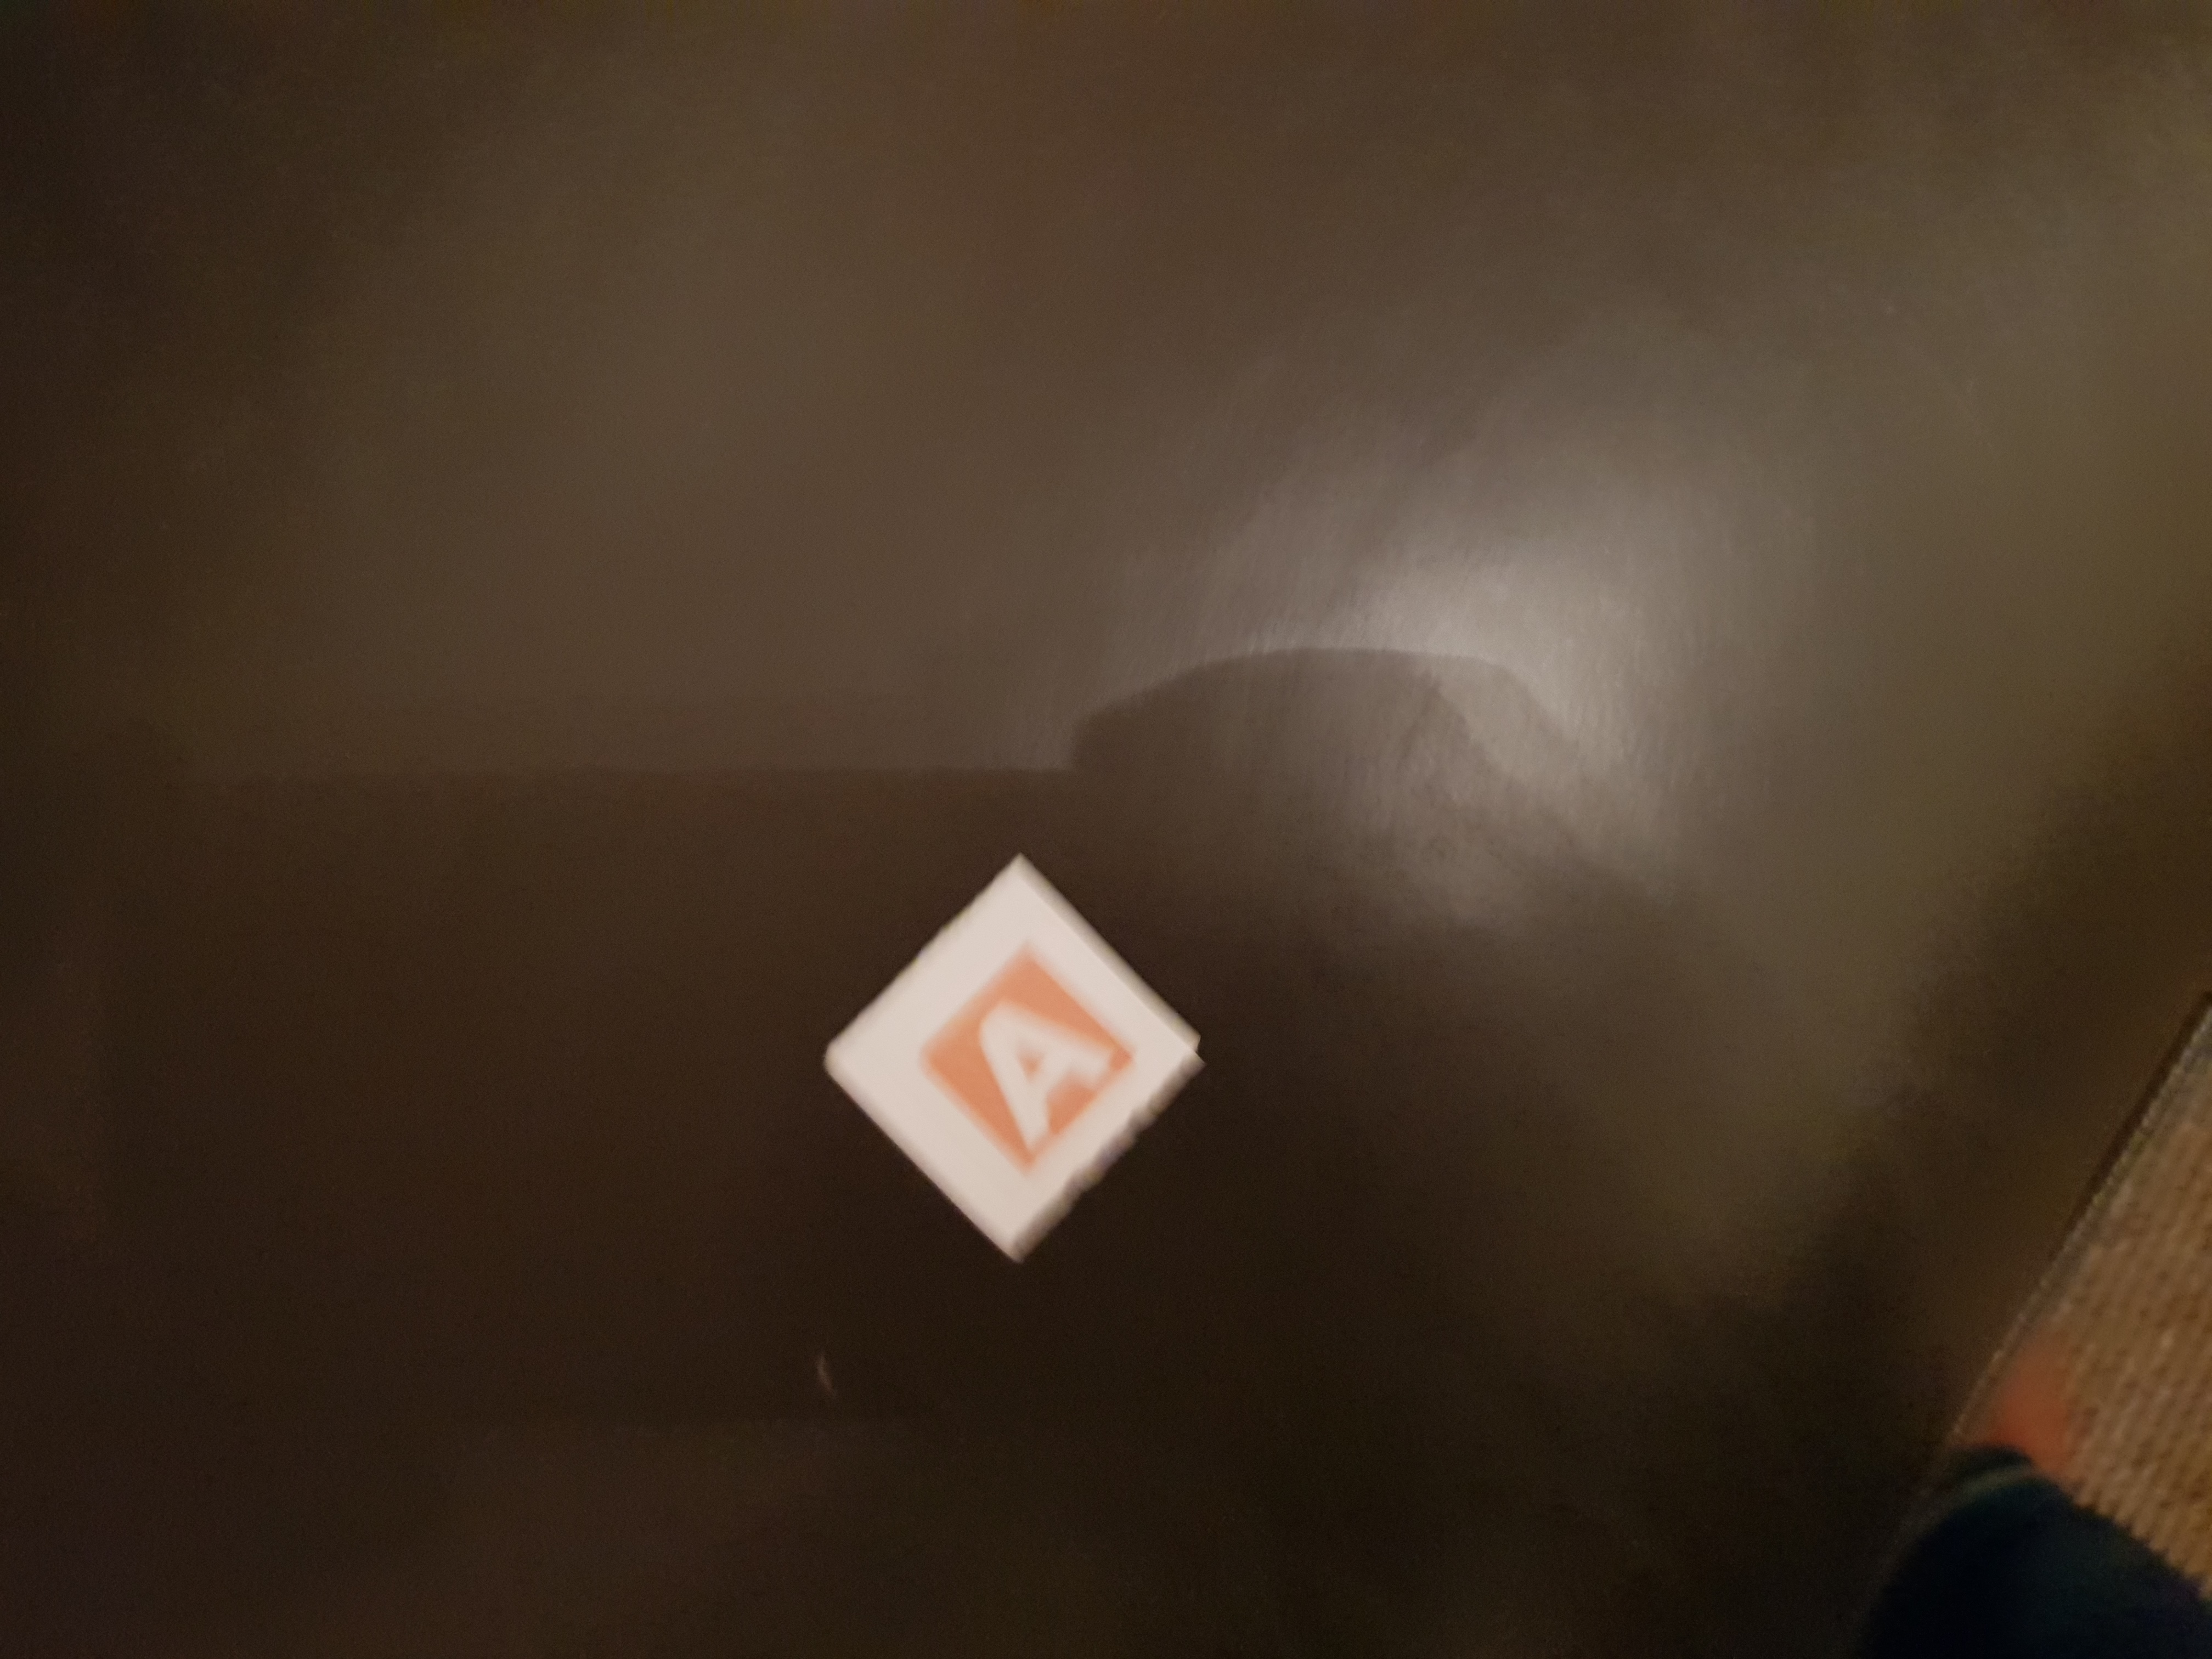orange marker: (822, 866, 1204, 1276)
